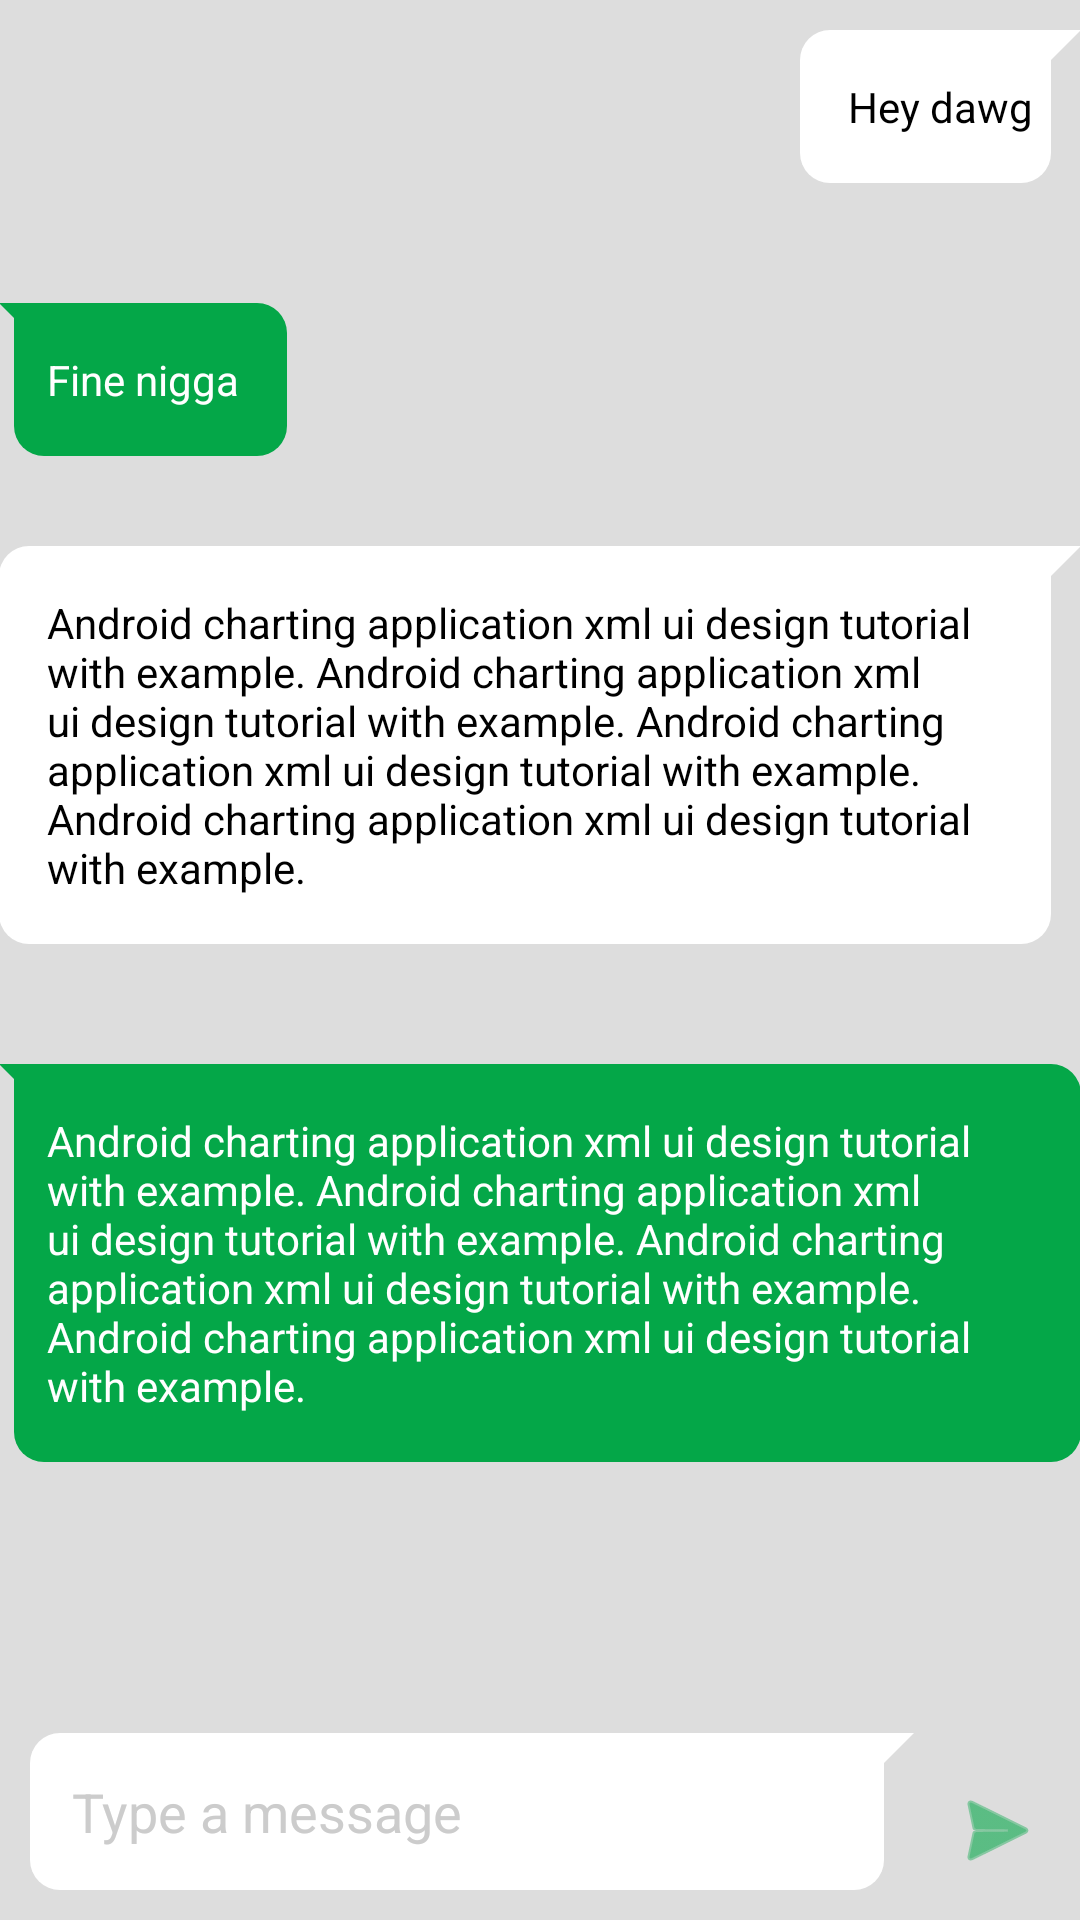

Icon click points for this 1080x1920 phone screenshot, format [x,y]:
send: [998,1830]
